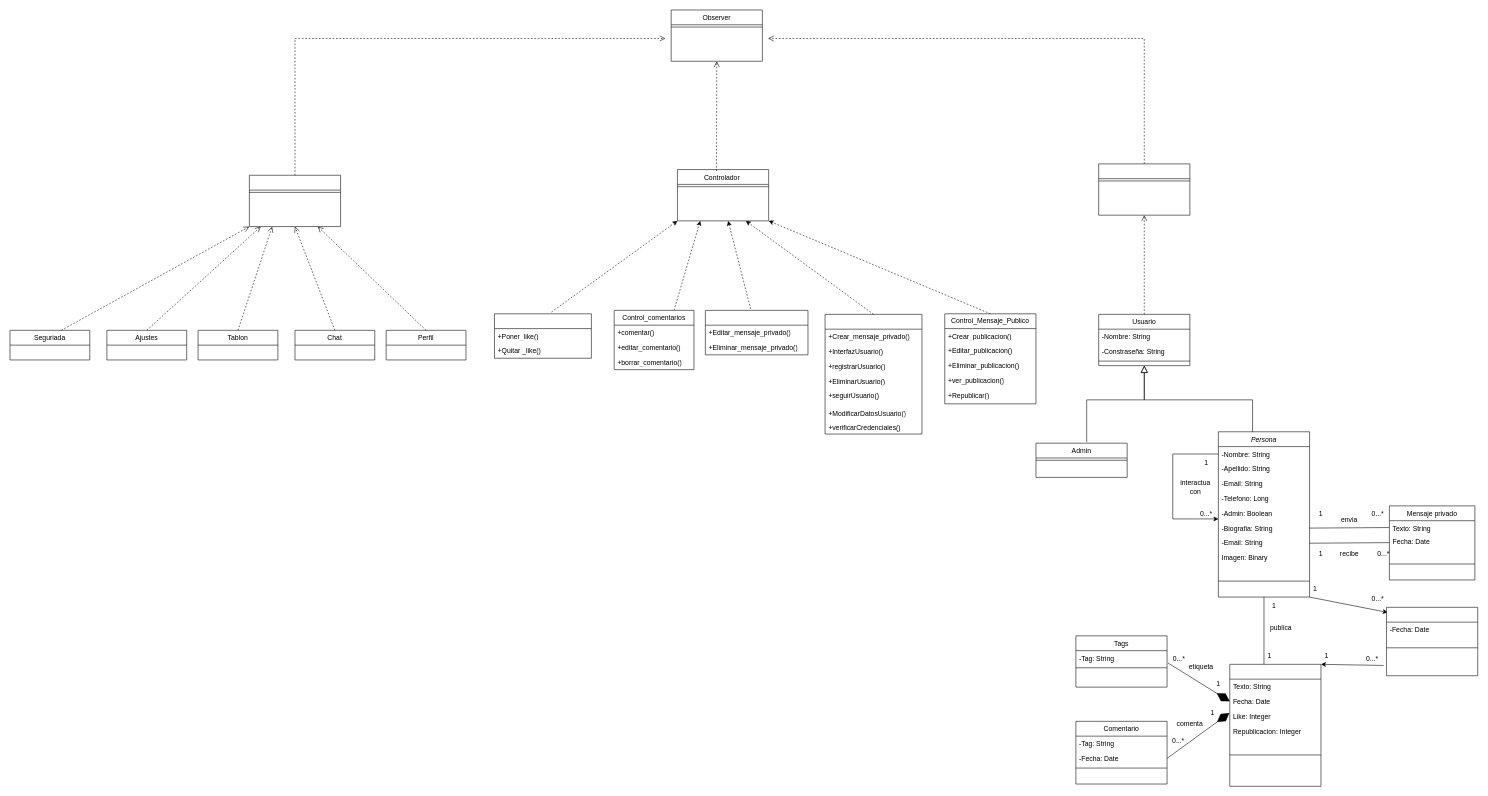
Image size: 1488x796. Some labels were removed from this diagram. Here are the shapes that lost their labels. From the top down, the box of each, then its label:
(249, 175, 341, 227): Vista
(1098, 163, 1190, 215): Modelo
(494, 313, 591, 358): Control_likes
(705, 310, 808, 355): Control_mensaje_privado
(825, 314, 922, 434): Control_Usuario
(1386, 607, 1478, 676): Republicacion
(1229, 664, 1321, 786): Mensaje publico
